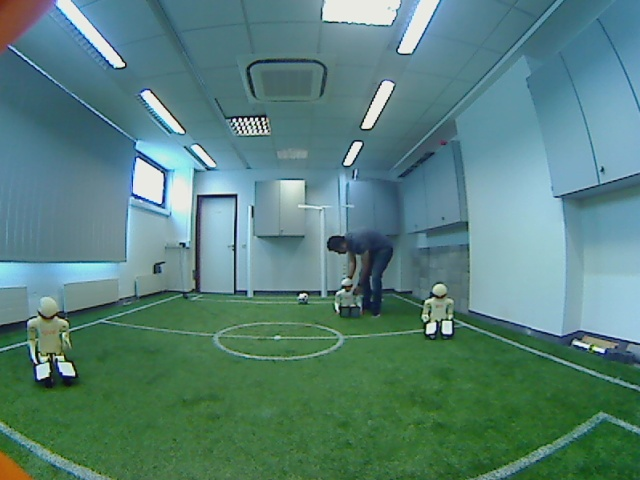ball: (293, 289, 315, 309)
robot: (23, 293, 83, 387), (415, 281, 461, 344), (330, 275, 369, 321)
